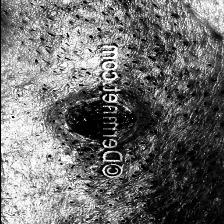Potentially Malignant Skin Tumors: (56, 86, 100, 146), (120, 97, 166, 147)
